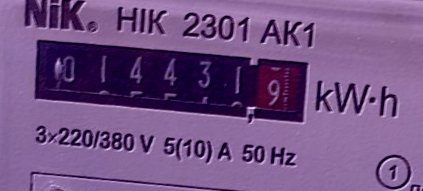0: (57, 50, 81, 86)
1: (93, 50, 115, 85), (230, 62, 247, 96)
3: (193, 58, 216, 92)
4: (125, 51, 150, 86), (160, 52, 182, 88)
9: (263, 75, 284, 107)
screen: (21, 19, 325, 142)
